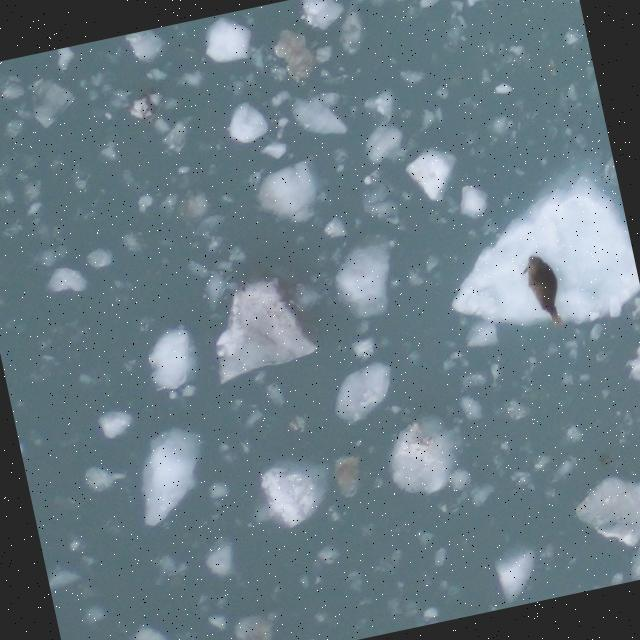seal: (516, 247, 572, 335)
